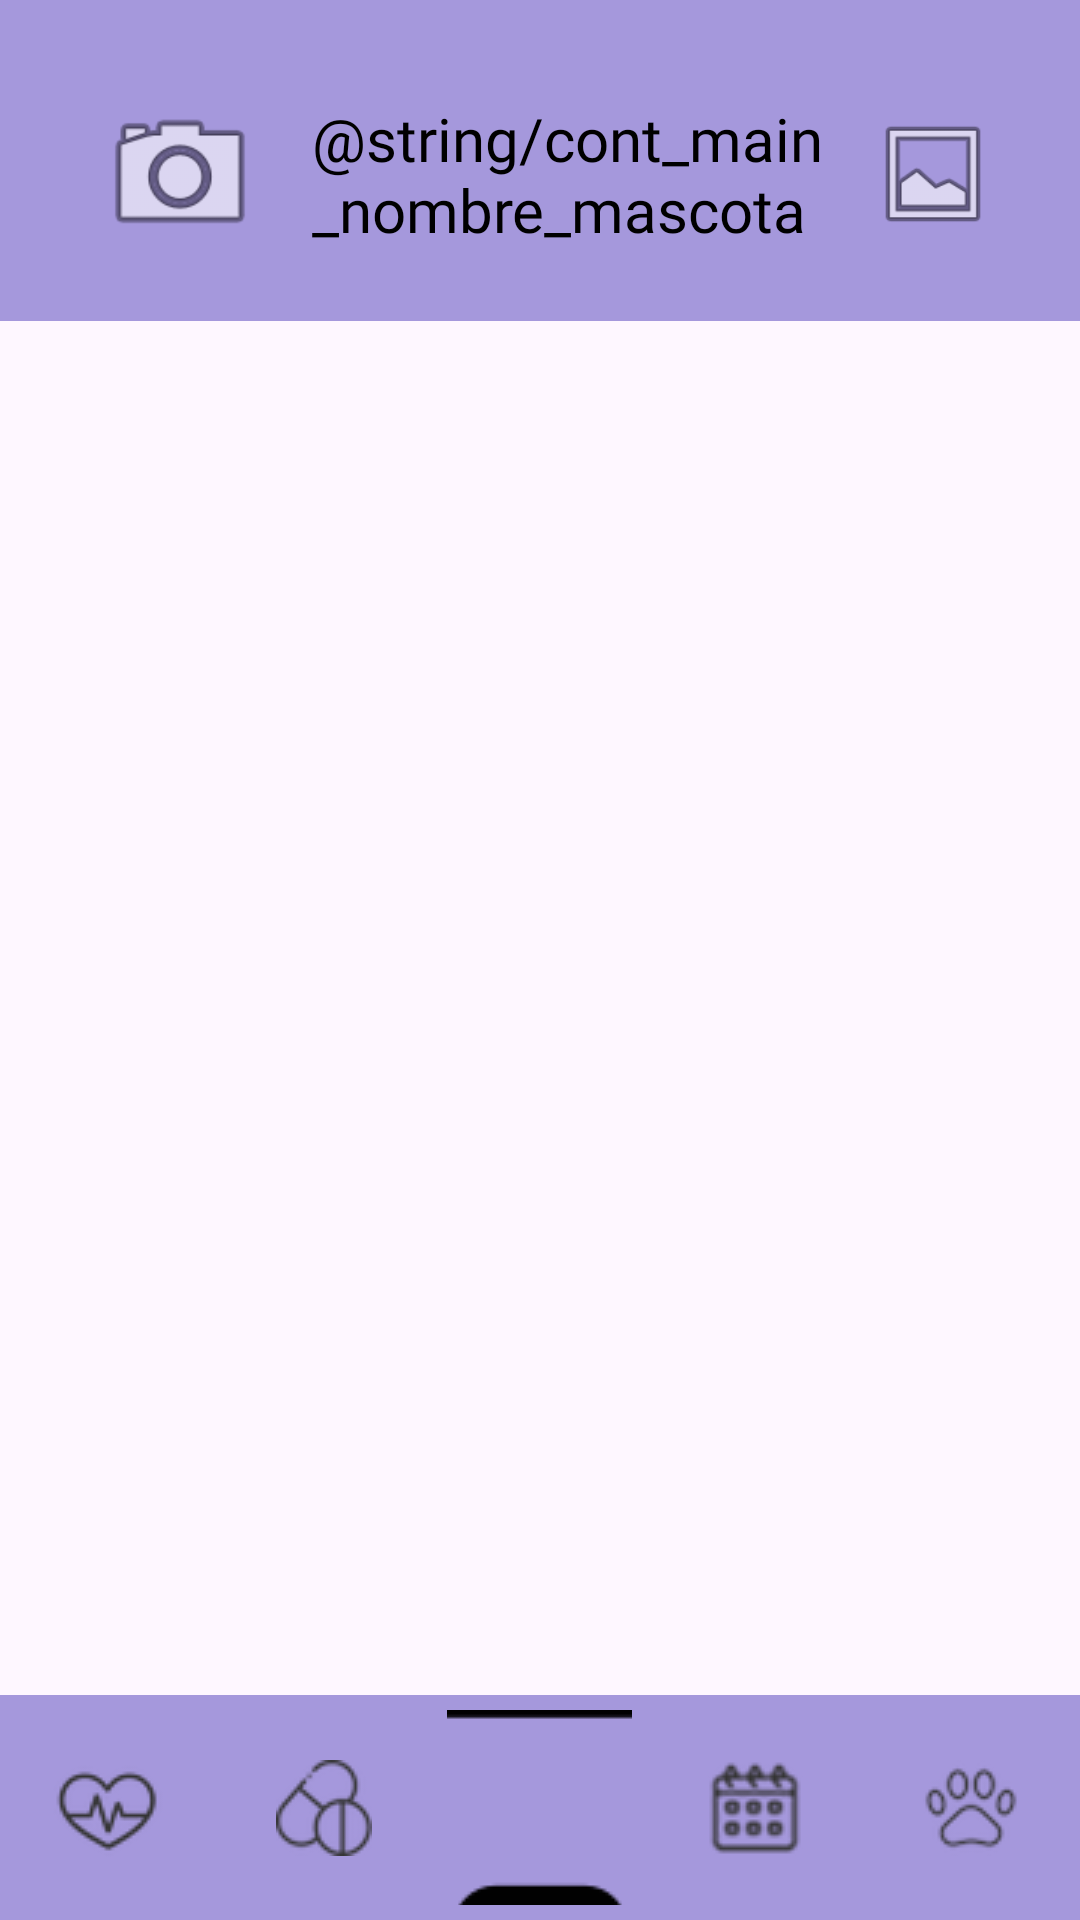

Screen size 1080 x 1920. Icon name, then its box in pixels as (x1, y1, x2, y2):
calendar: (711, 1763, 799, 1853)
Foto de perfil: (115, 120, 245, 223)
huella: (925, 1768, 1017, 1848)
tratamiento: (276, 1760, 372, 1856)
